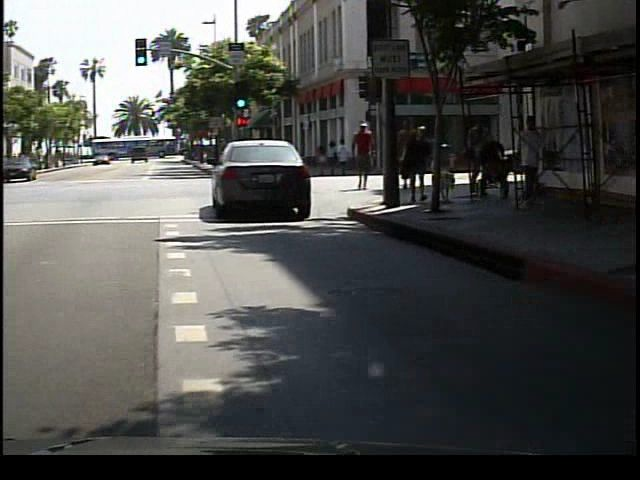person: (351, 116, 385, 198), (391, 113, 422, 192)
